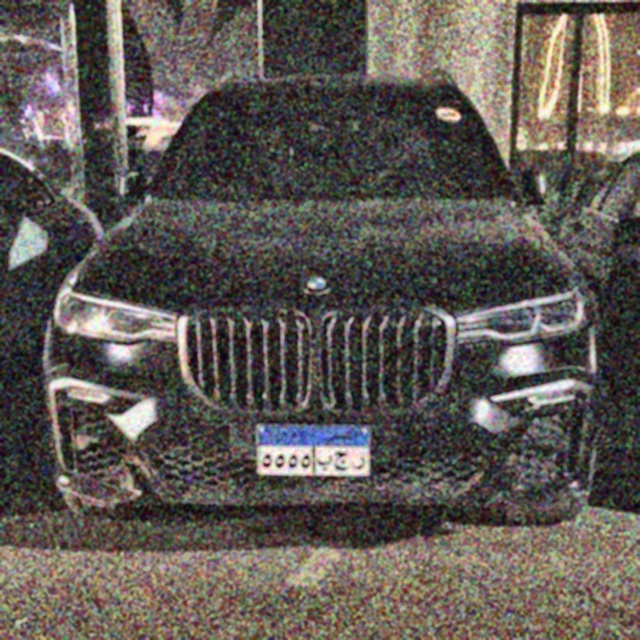License Plate: (256, 424, 372, 477)
